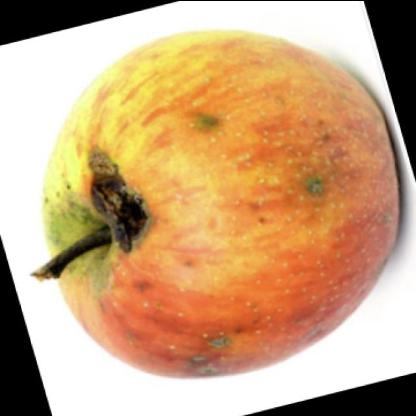defect: (80, 130, 174, 274), (163, 70, 253, 164), (167, 302, 256, 394), (284, 132, 352, 230)
